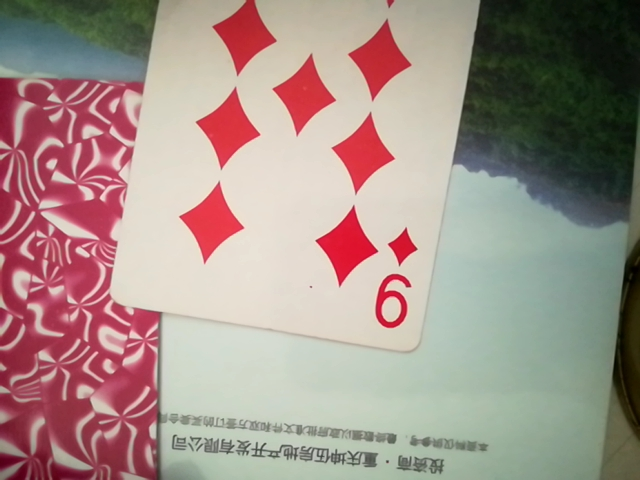fk 9: (87, 2, 503, 360)
